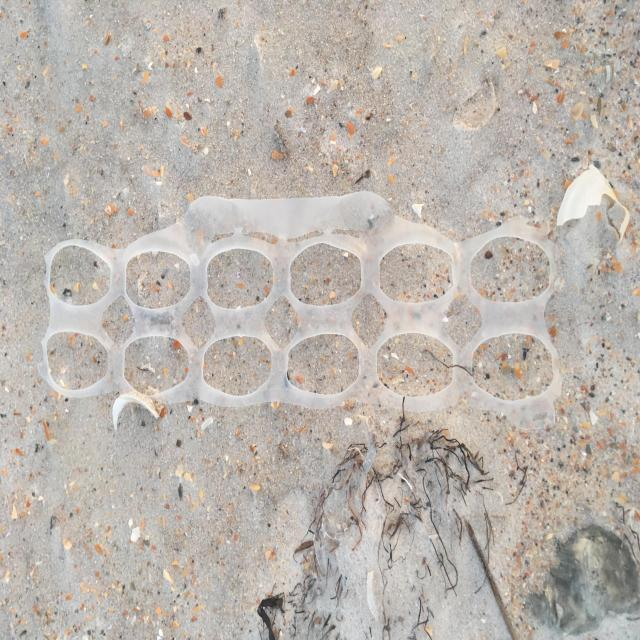litter: (39, 196, 563, 413)
